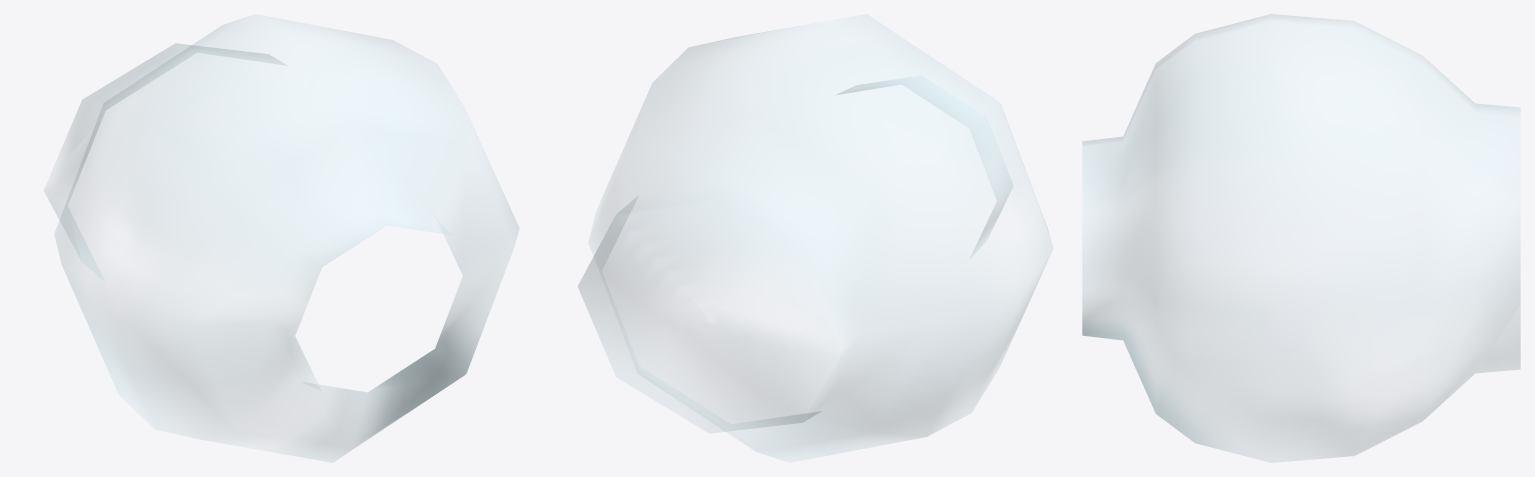
The model's file is jellybean_jar.glb.
3 renders of one model, left to right at view 1: azimuth 30°, elevation 25°; view 2: azimuth 150°, elevation 25°; view 3: azimuth 270°, elevation 25°, orthographic. The views are drawn at different scales.
Visible parts, largest first — view 1: jellybeanjar; view 2: jellybeanjar; view 3: jellybeanjar.
Part boxes in pixels (box(x1,y1,x2,y2)): jellybeanjar: box(45, 14, 518, 462); jellybeanjar: box(578, 14, 1052, 462); jellybeanjar: box(1082, 14, 1520, 462).
Size of the model in its own units: 2.35 by 2.35 by 2.16.
2 materials, 2 textured.
